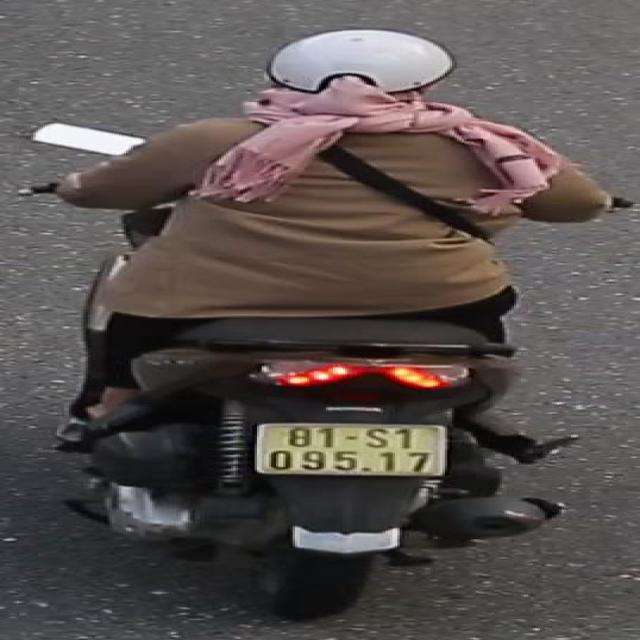LP: (249, 420, 453, 478)
helmet: (232, 23, 482, 126)
